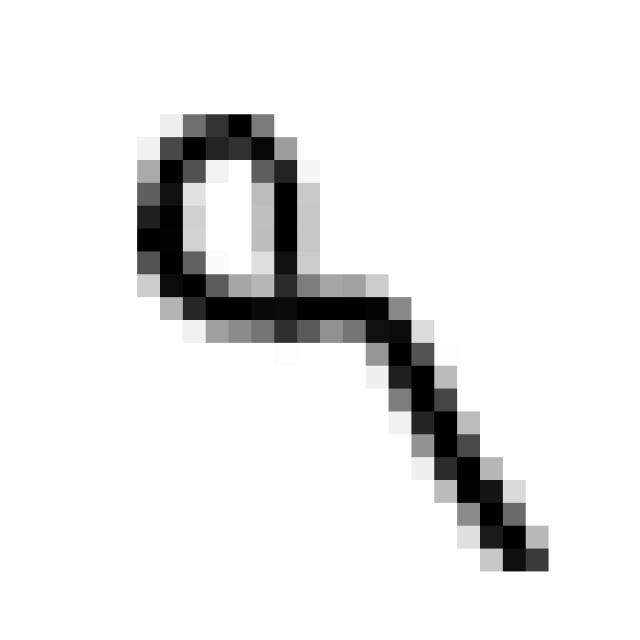9 -nine-: (105, 91, 569, 599)
